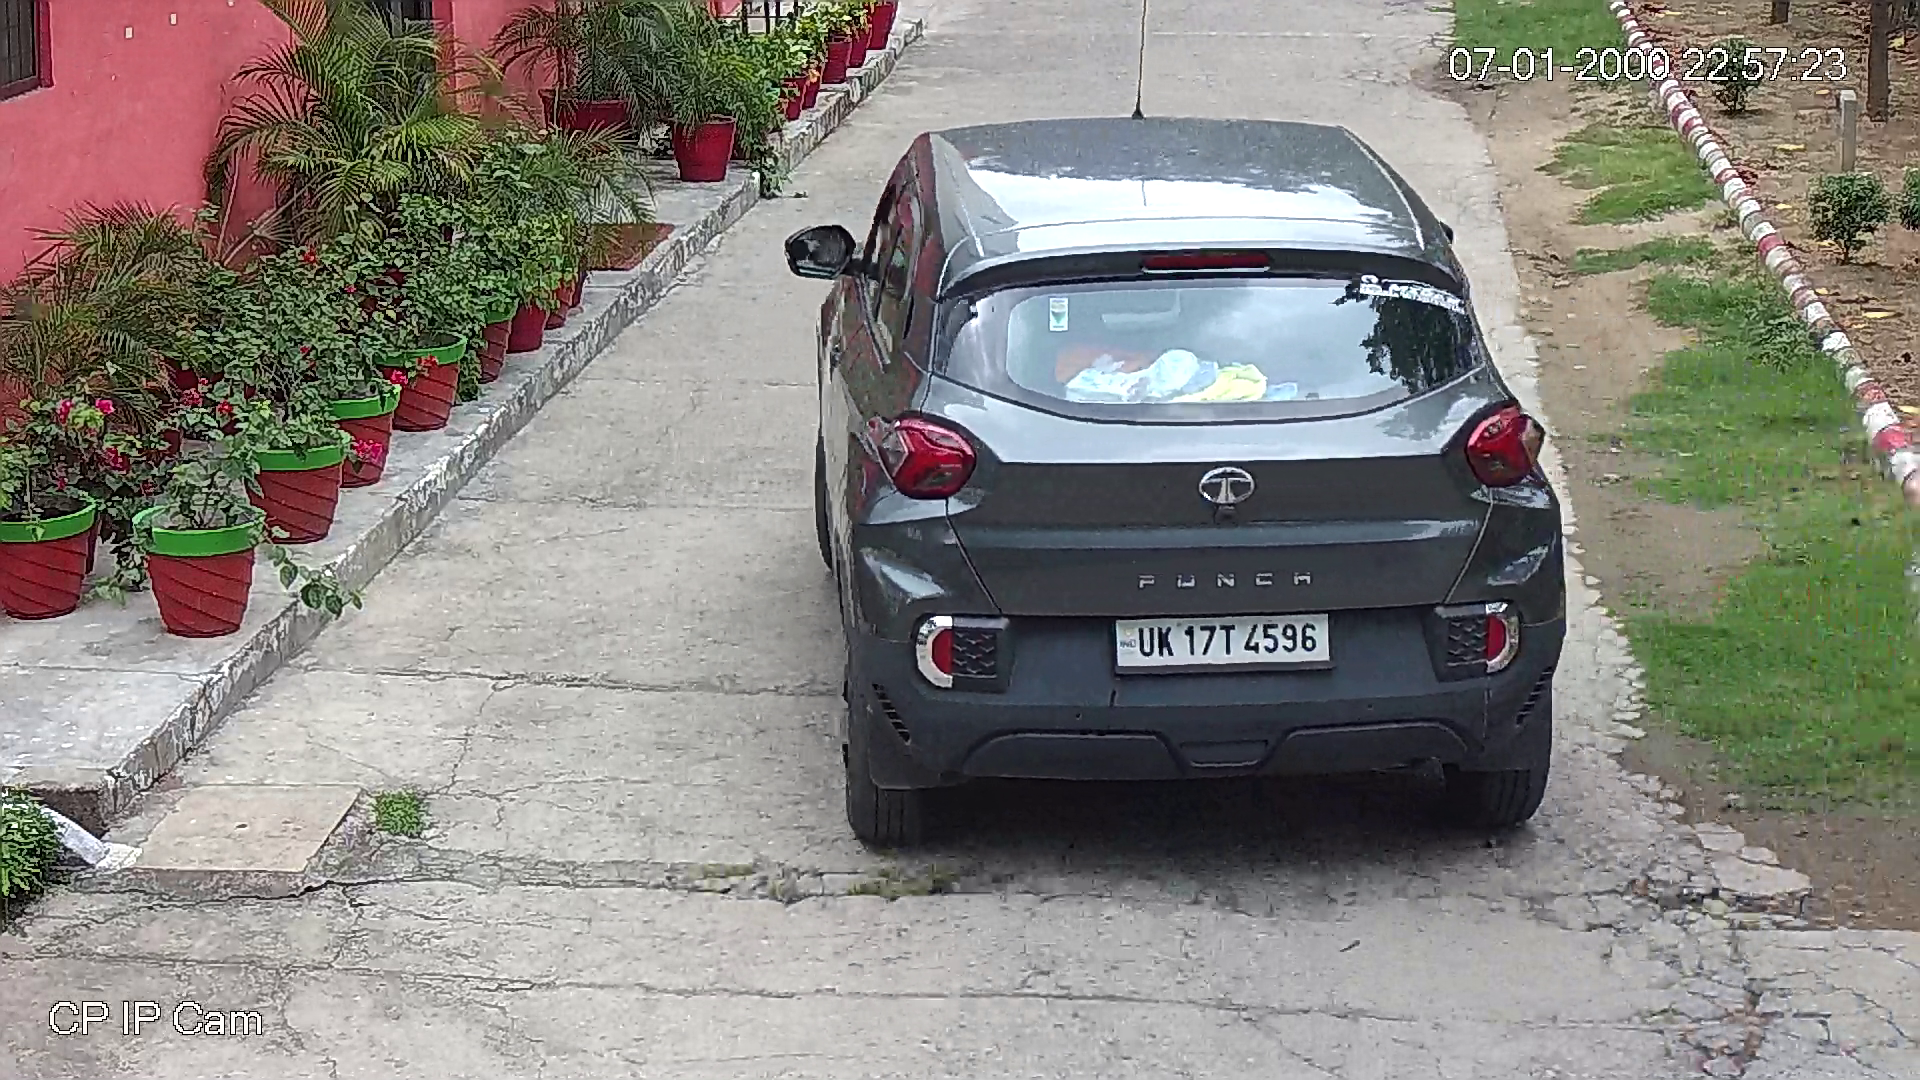plate: (1114, 613, 1332, 674)
